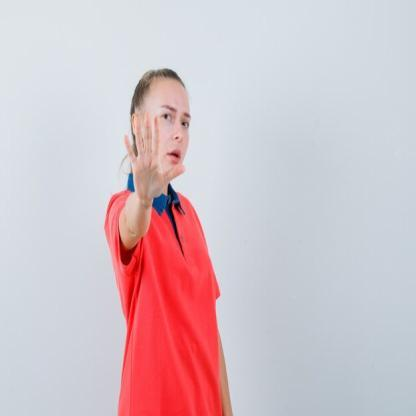stop: (120, 110, 188, 205)
